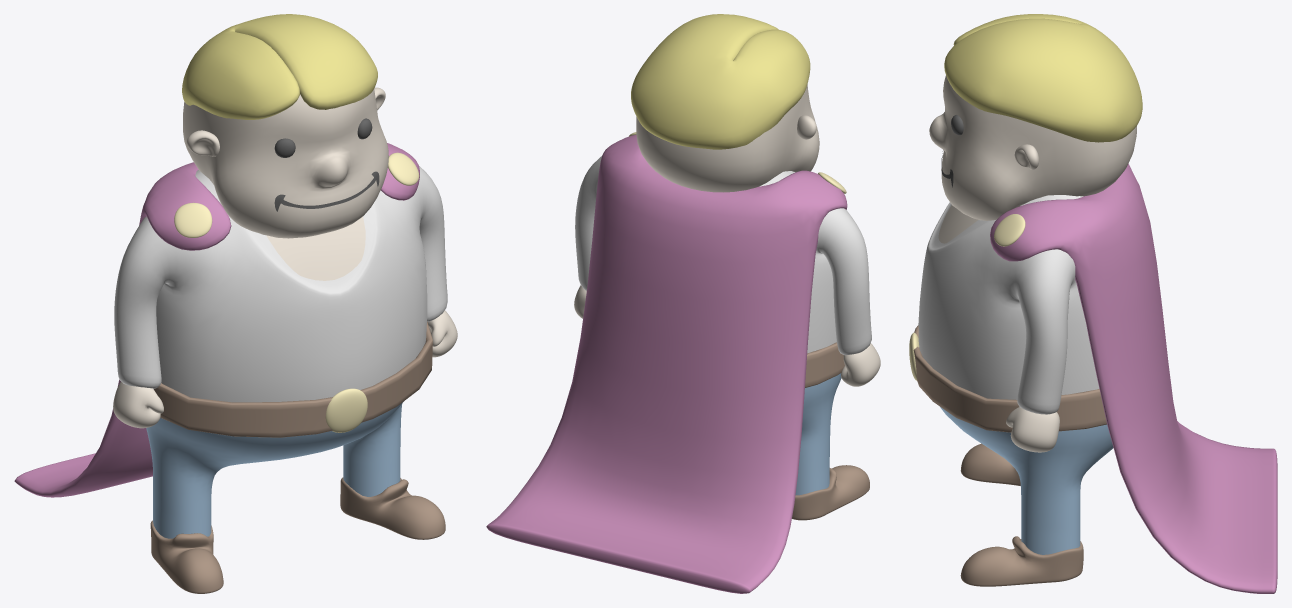
File: Knight.fbx
The picture shows the model from 3 angles, left to right: view 1: azimuth 30°, elevation 25°; view 2: azimuth 150°, elevation 25°; view 3: azimuth 270°, elevation 25°; orthographic projection. The views are drawn at different scales.
Parts seen in each view (by area): view 1: Knight, Generic; view 2: Knight, Generic; view 3: Knight, Generic.
Part boxes in pixels (box(x1,y1,x2,y2)): Knight: box(14, 14, 457, 593); Generic: box(154, 171, 432, 437); Knight: box(486, 14, 880, 593); Generic: box(805, 342, 844, 387); Knight: box(909, 14, 1277, 593); Generic: box(913, 150, 1106, 432).
Bounding box in the file's own units: 0.8734 × 1.29 × 0.8522.
